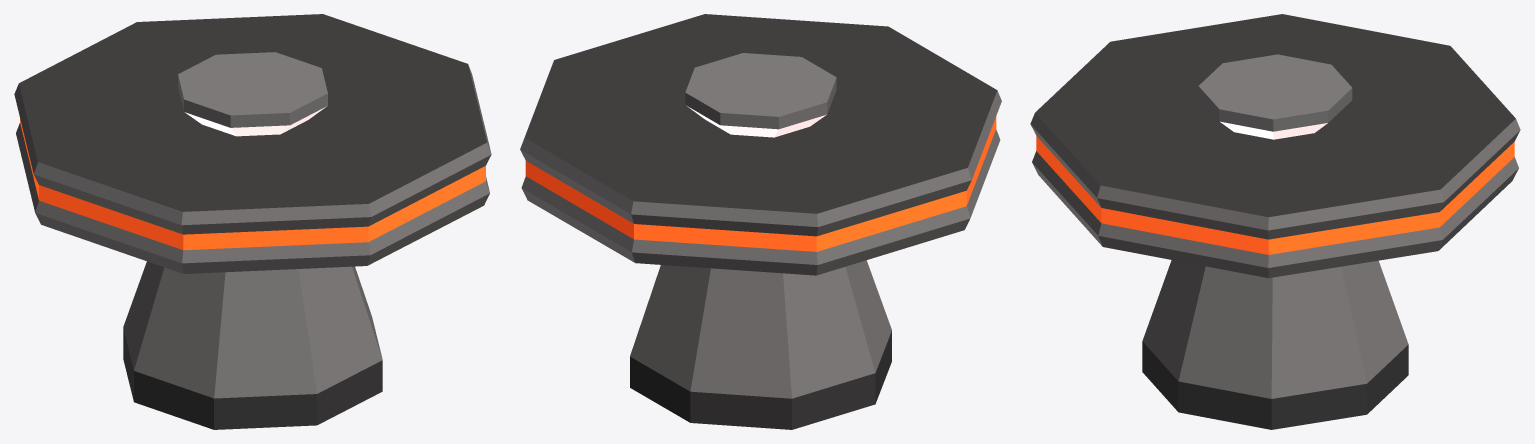
Rendered from scifi_scifi-table-round.fbx.
3 views of the same model, side by side, from view 1: azimuth 30°, elevation 25°; view 2: azimuth 150°, elevation 25°; view 3: azimuth 270°, elevation 25° (orthographic).
Visible parts, largest first — view 1: scifi_scifi_table_round; view 2: scifi_scifi_table_round; view 3: scifi_scifi_table_round.
Part boxes in pixels (bbox=[...]): scifi_scifi_table_round: bbox=[14, 14, 491, 429]; scifi_scifi_table_round: bbox=[520, 14, 1001, 429]; scifi_scifi_table_round: bbox=[1030, 14, 1520, 429].
Bounding box in the file's own units: 200 × 129 × 200.
